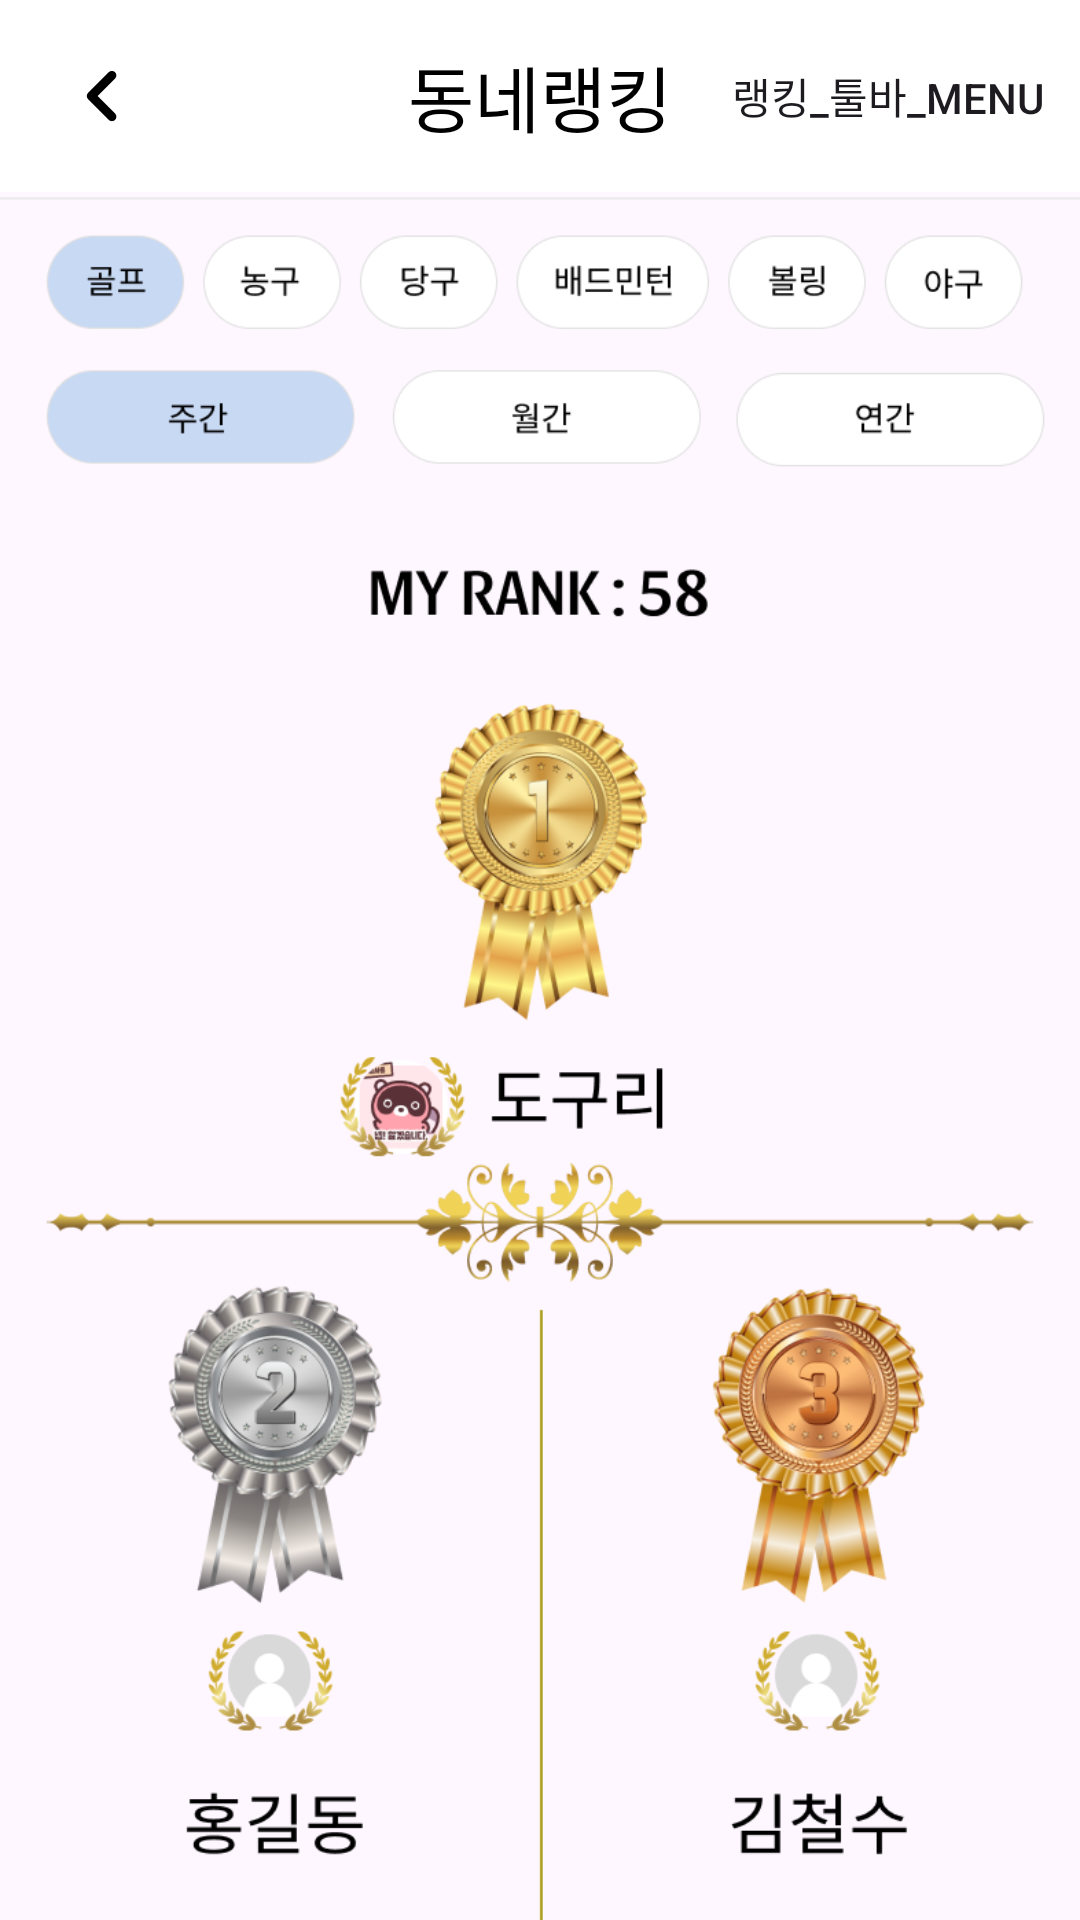

Where icons sit on this 1080 × 1920 app screen, as bbox=[x1, y1, x2, y2]:
before: bbox=[86, 71, 117, 122]
